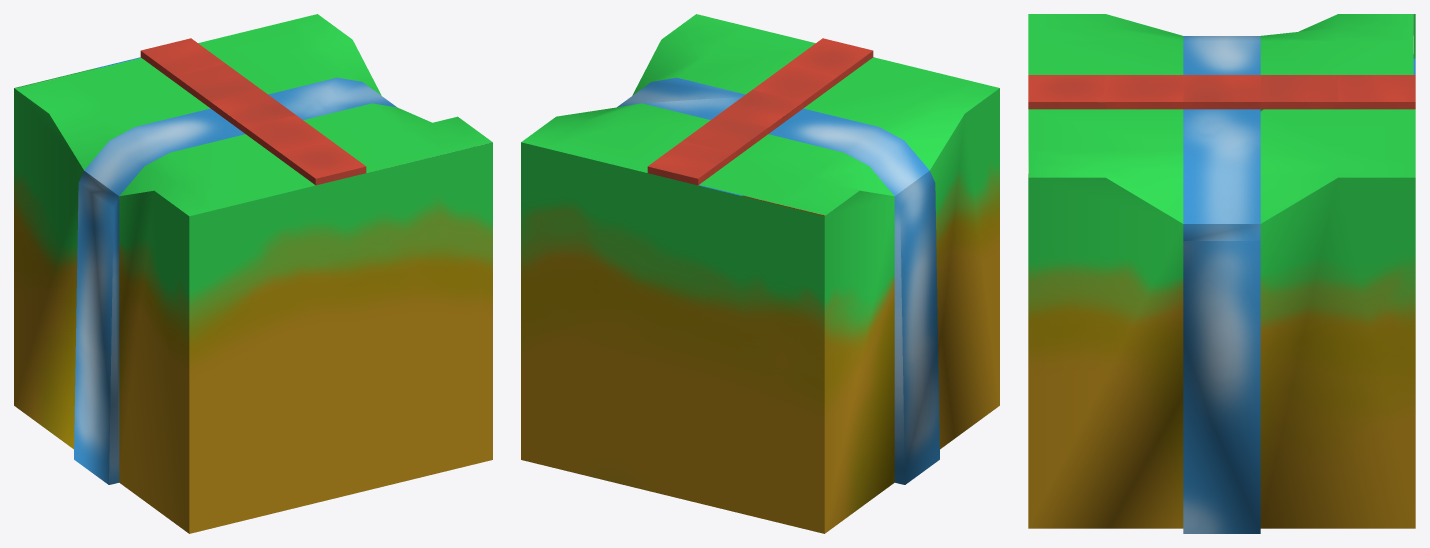
The model's file is Level 1-FIXED.fbx.
The picture shows the model from 3 angles, left to right: view 1: azimuth 30°, elevation 25°; view 2: azimuth 150°, elevation 25°; view 3: azimuth 270°, elevation 25°; orthographic projection. The views are drawn at different scales.
Visible parts, largest first — view 1: Level 1; view 2: Level 1; view 3: Level 1.
Part boxes in pixels (<box>): Level 1: <box>14,14,492,533</box>; Level 1: <box>521,14,999,533</box>; Level 1: <box>1028,14,1415,533</box>.
Bounding box in the file's own units: 1280 × 1225 × 1200.
